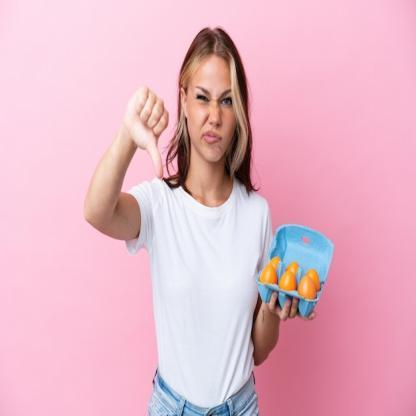thumb_down: (124, 81, 172, 184)
